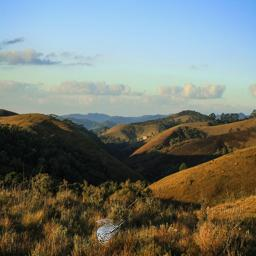Sparrow: (96, 219, 124, 245)
